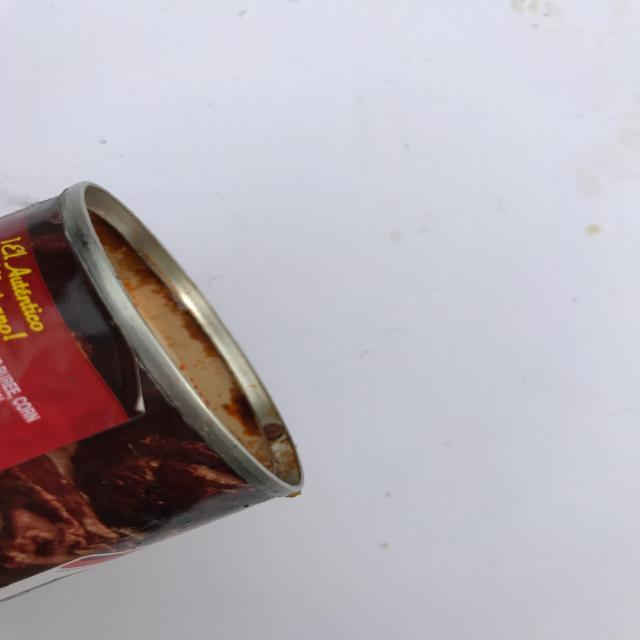metal: (0, 181, 306, 614)
